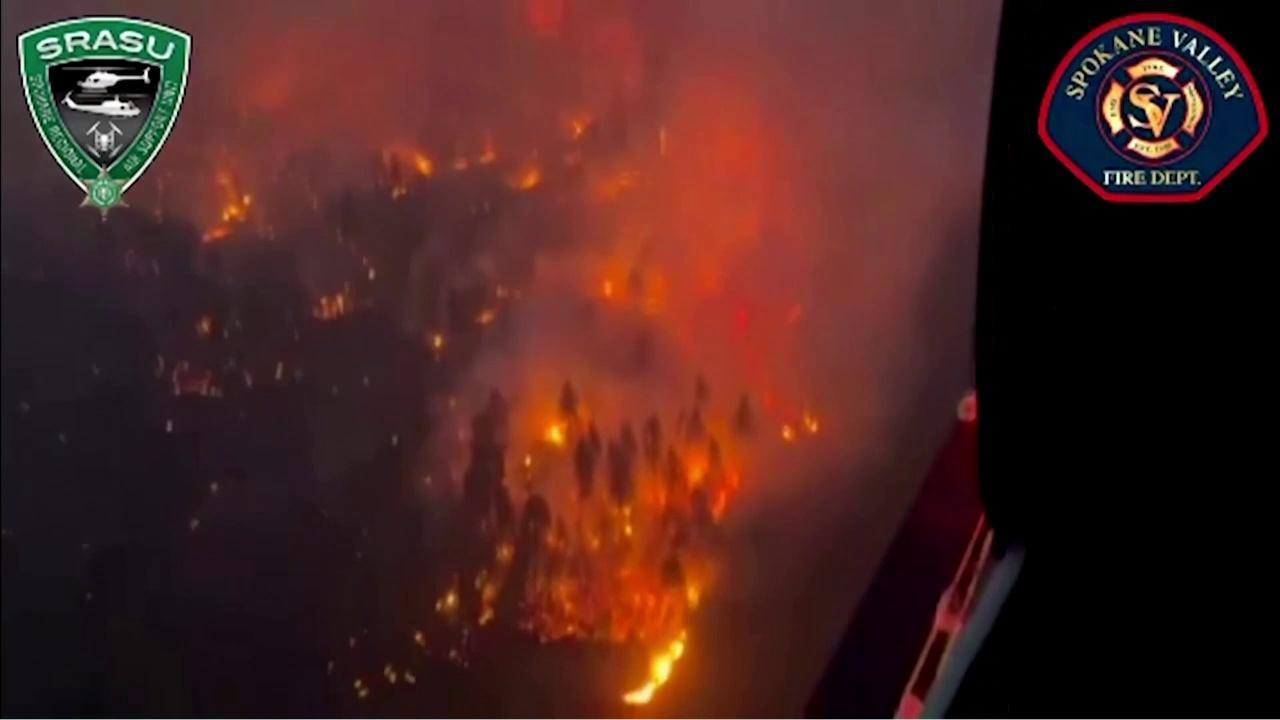fire: (429, 407, 750, 707), (195, 152, 252, 246), (378, 141, 434, 203), (306, 292, 346, 327), (509, 164, 544, 193), (478, 128, 496, 168), (474, 306, 502, 328), (597, 272, 618, 301), (801, 401, 818, 436), (193, 315, 216, 339), (775, 421, 796, 443), (569, 116, 587, 138), (427, 329, 443, 352), (452, 156, 468, 172)
smoke: (4, 0, 994, 718)
